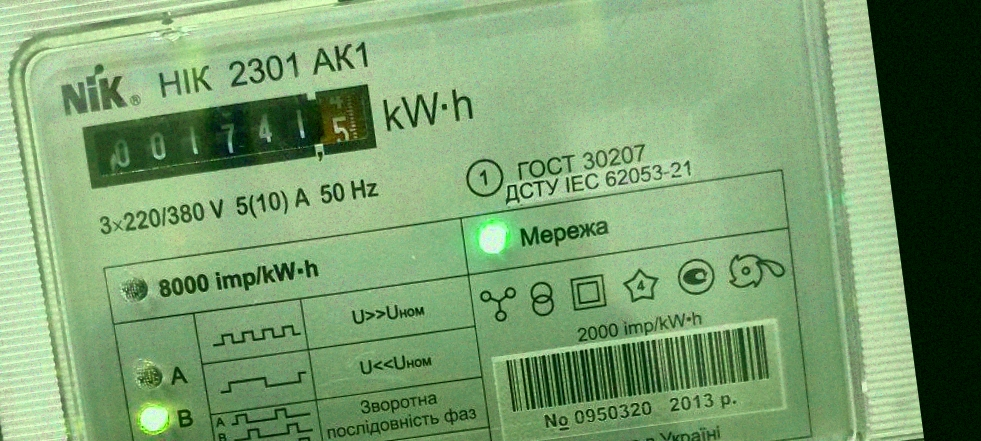0: (146, 127, 169, 163), (111, 134, 134, 169)
1: (181, 120, 203, 158), (290, 105, 310, 142)
4: (252, 109, 277, 146), (327, 91, 345, 111)
5: (328, 111, 351, 144)
7: (217, 119, 239, 155)
screen: (74, 76, 385, 196)
